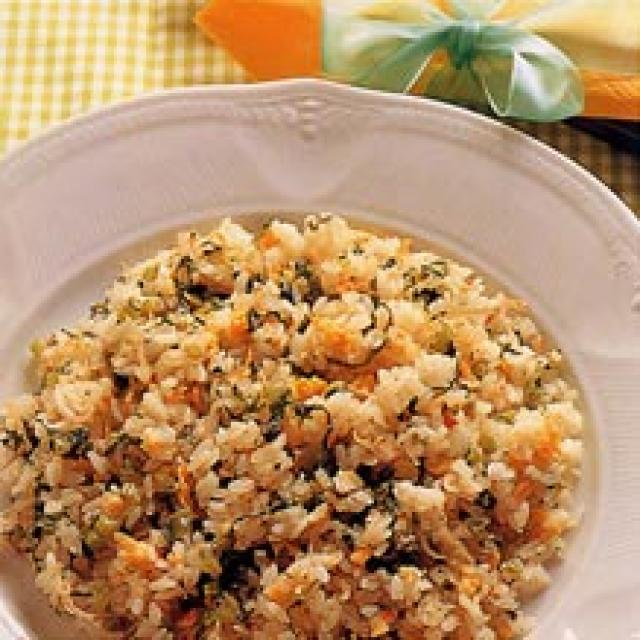米饭主食: (0, 87, 640, 640)
